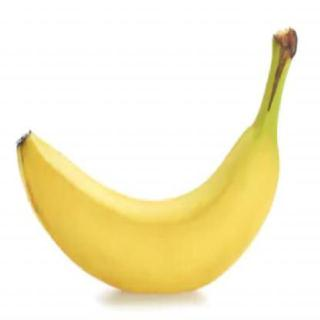banana: (15, 124, 281, 296)
